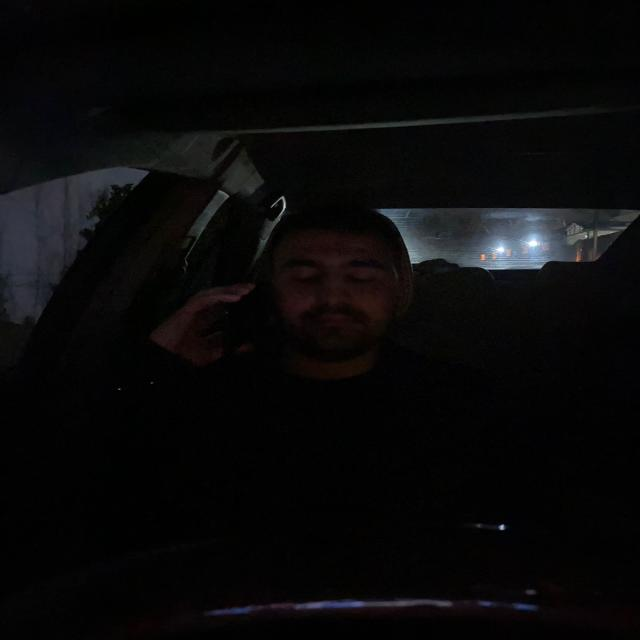phone: (220, 281, 275, 360)
